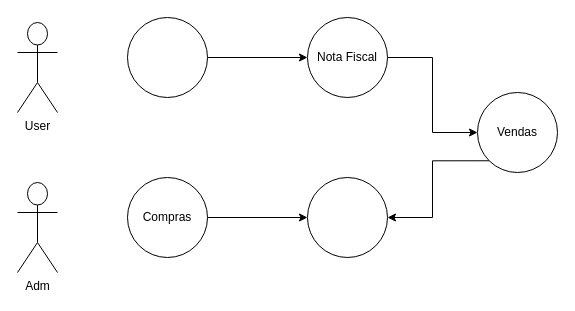
The diagram is 575 pixels wide and 311 high, and some of its shapes have lost their labels. Here are the shapes that lost their labels. From the top down, the centre of each, then its label:
the point at 167,57: Menu
the point at 347,217: Produtos
